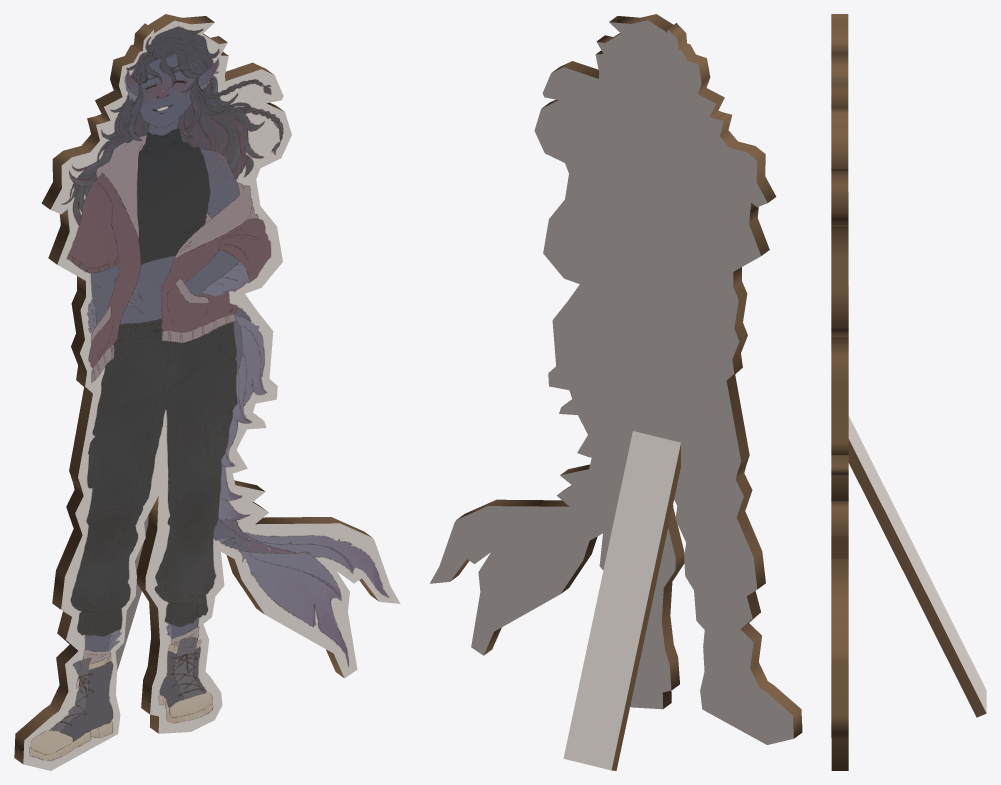
File: Torsta_Happy.fbx
3 views of the same model, side by side, from view 1: azimuth 30°, elevation 25°; view 2: azimuth 150°, elevation 25°; view 3: azimuth 270°, elevation 25° (orthographic). The views are drawn at different scales.
Visible parts, largest first — view 1: Torsta_Happy; view 2: Torsta_Happy; view 3: Torsta_Happy.
Boxes of the visible parts, x1,y1,x2,y2 form: Torsta_Happy: (14, 14, 400, 770); Torsta_Happy: (430, 14, 802, 770); Torsta_Happy: (831, 14, 986, 770).
Size of the model in its own units: 105 by 192 by 39.12.
1 material, 1 textured.
